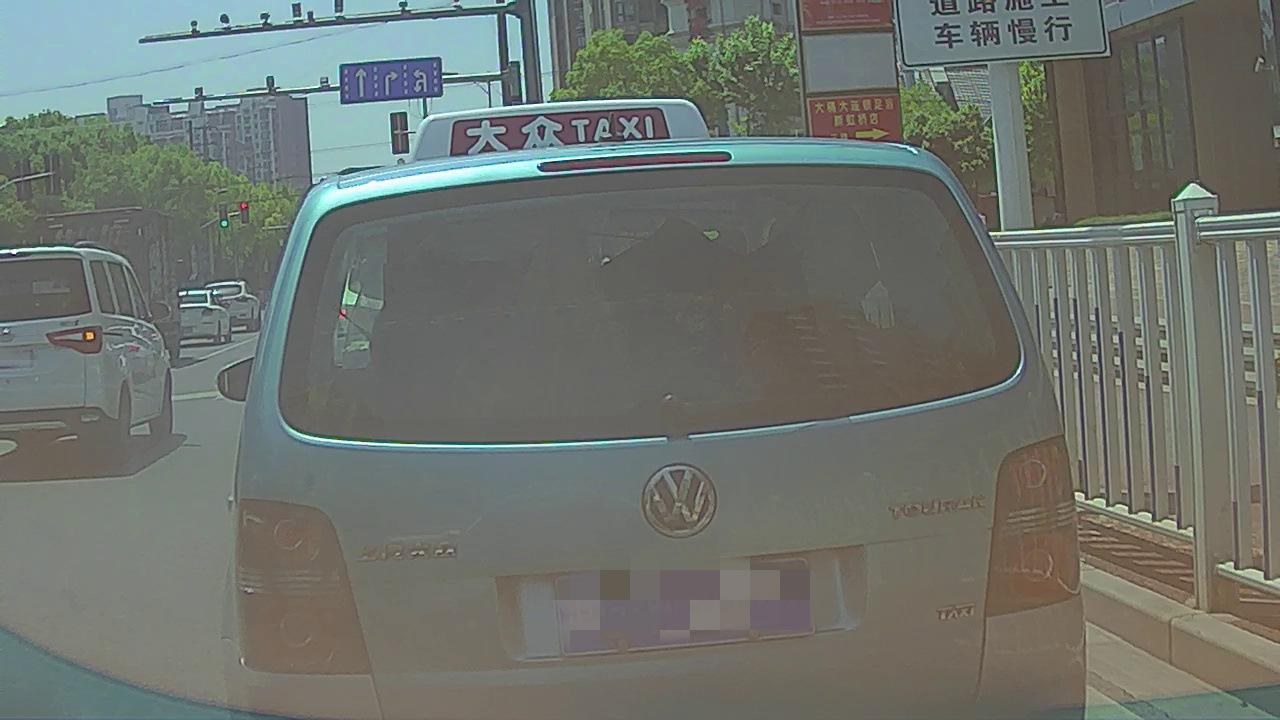traffic_light: (218, 204, 229, 228), (239, 201, 249, 224)
